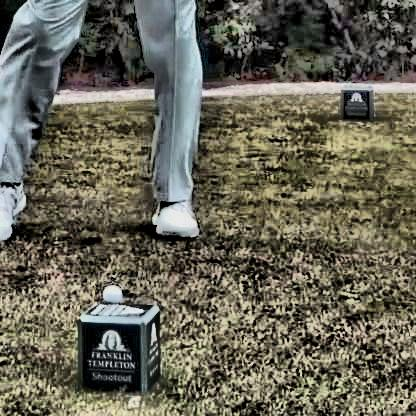golfball: (99, 281, 121, 303)
